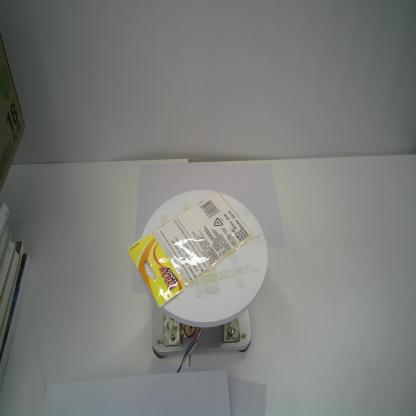Stationery: (125, 189, 256, 309)
